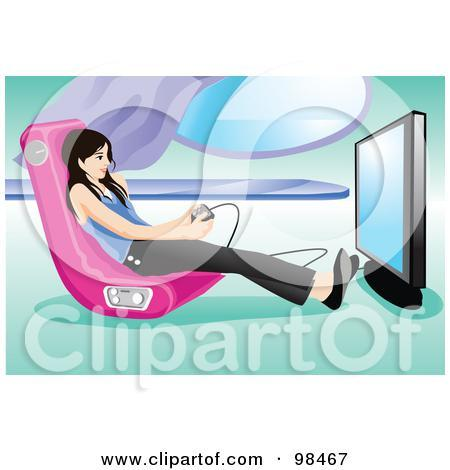chair: (17, 118, 230, 325)
person: (56, 126, 362, 309)
tvmonitor: (352, 106, 431, 313)
